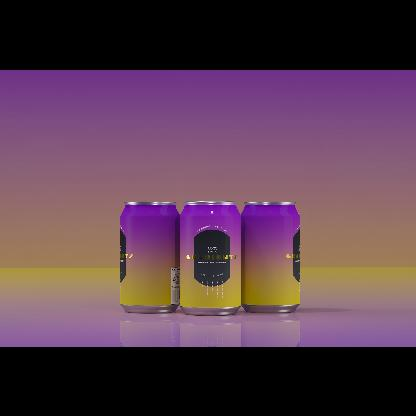Tin_Can: (175, 197, 243, 317), (242, 197, 304, 316), (118, 198, 180, 316)
